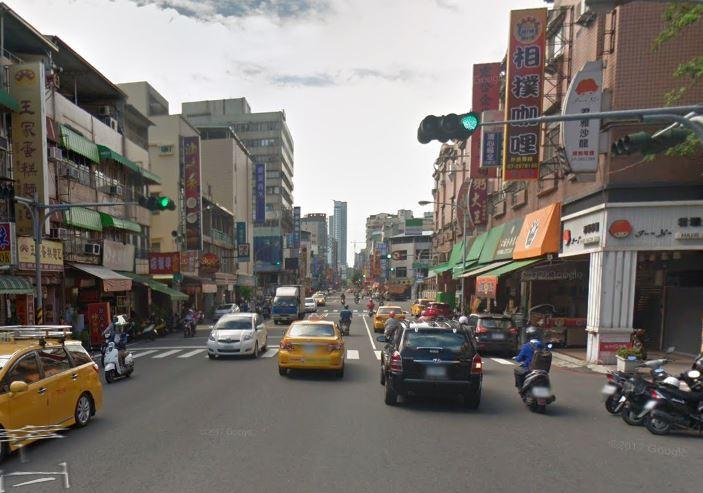car: (0, 335, 102, 466), (376, 316, 484, 402), (268, 317, 347, 373), (202, 308, 270, 359), (372, 304, 402, 332)
green_traffic_light: (415, 111, 478, 142), (135, 193, 175, 209)
motorcycle: (638, 351, 703, 440), (512, 350, 559, 409), (99, 334, 137, 383)
truck: (271, 284, 308, 322)
